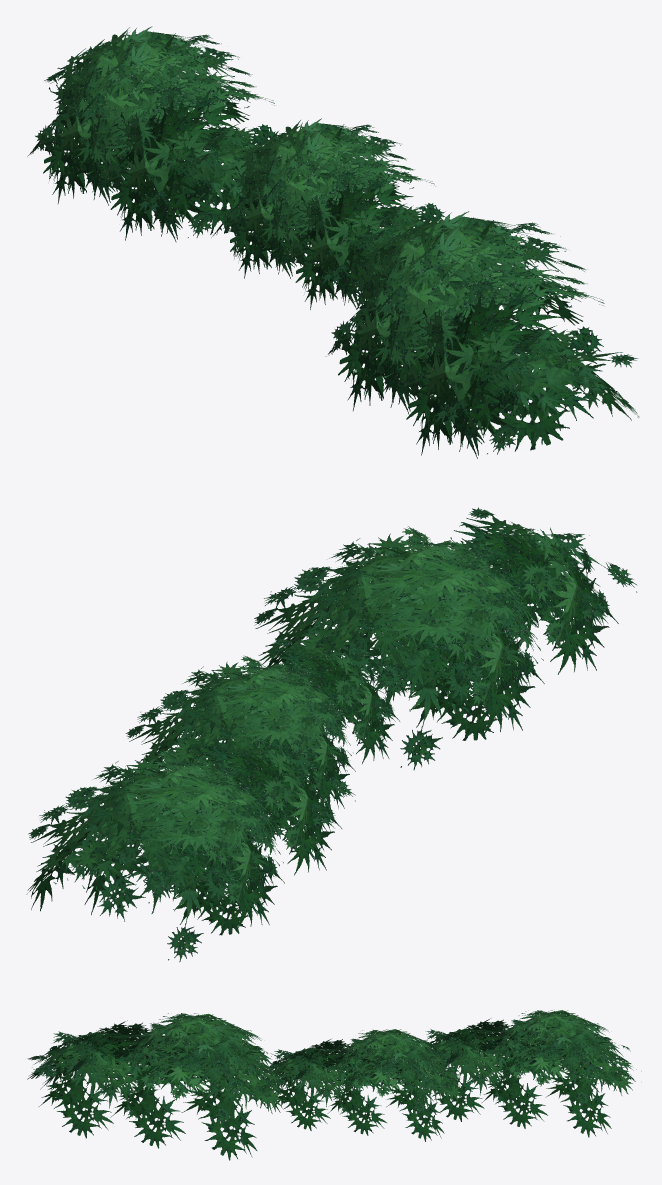
Rendered from Area_05_7.fbx.
3 renders of one model, top to bottom at view 1: azimuth 30°, elevation 25°; view 2: azimuth 150°, elevation 25°; view 3: azimuth 270°, elevation 25°, orthographic. The views are drawn at different scales.
Parts seen in each view (by area): view 1: Area_05_7; view 2: Area_05_7; view 3: Area_05_7.
Part boxes in pixels (x1,y1,x2,y2): Area_05_7: (27, 26, 639, 458); Area_05_7: (26, 507, 637, 962); Area_05_7: (27, 1010, 641, 1160).
Size of the model in its own units: 692 by 450 by 2062.
